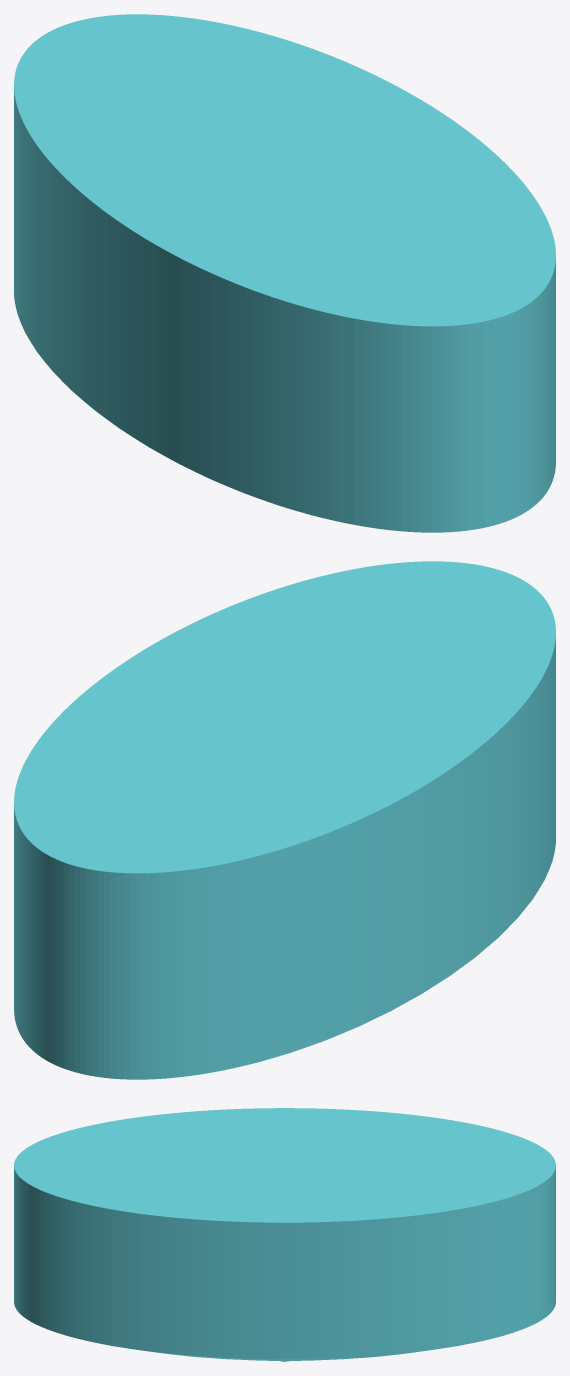
Rendered from hologramme2.fbx.
3 renders of one model, top to bottom at view 1: azimuth 30°, elevation 25°; view 2: azimuth 150°, elevation 25°; view 3: azimuth 270°, elevation 25°, orthographic. The views are drawn at different scales.
Visible parts, largest first — view 1: Cylinder.002; view 2: Cylinder.002; view 3: Cylinder.002, Cylinder.001.
Boxes of the visible parts, box(x1,y1,x2,y2) form: Cylinder.002: box(14, 14, 555, 532); Cylinder.002: box(14, 561, 555, 1079); Cylinder.002: box(14, 1108, 555, 1358); Cylinder.001: box(111, 1345, 458, 1360).
Bounding box in the file's own units: 90 × 71 × 180.
